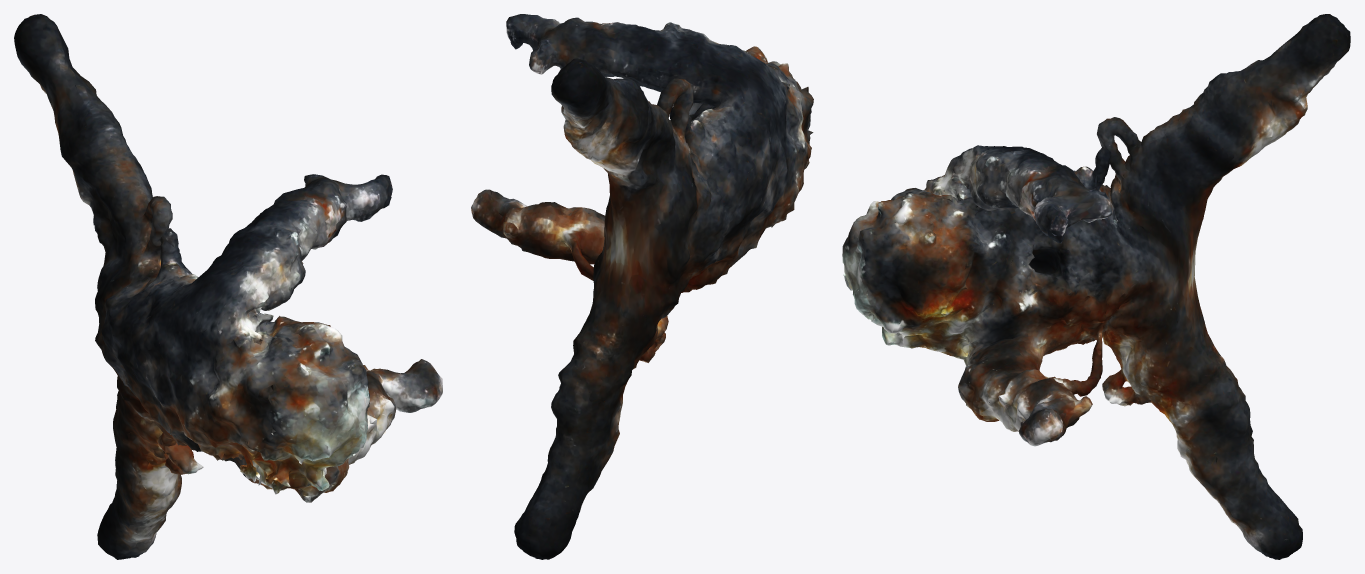
Rendered from astronaut_pose0.glb.
3 views of the same model, side by side, from view 1: azimuth 30°, elevation 25°; view 2: azimuth 150°, elevation 25°; view 3: azimuth 270°, elevation 25° (orthographic). The views are drawn at different scales.
Visible parts, largest first — view 1: pose0; view 2: pose0; view 3: pose0.
Part boxes in pixels (<box>): pose0: <box>14,14,442,559</box>; pose0: <box>471,14,813,559</box>; pose0: <box>842,14,1350,559</box>.
Size of the model in its own units: 0.6109 by 1.04 by 0.9384.
1 material, 1 textured.
